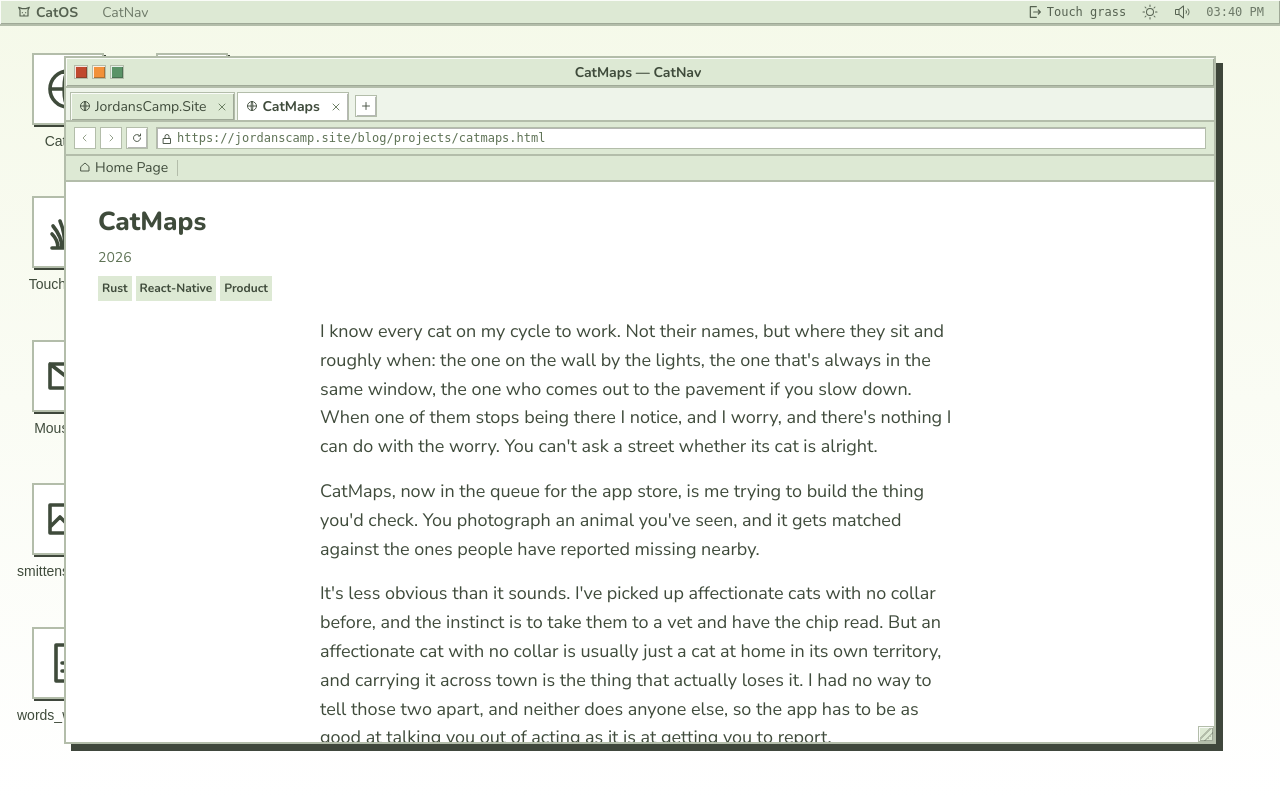
LaptopScreenOverlay (CatOS) › the browser window › closing the active tab hands focus to its neighbour
Step 1. Click the button named "Close CatMaps" → click(336, 106), box [328,98,344,114]
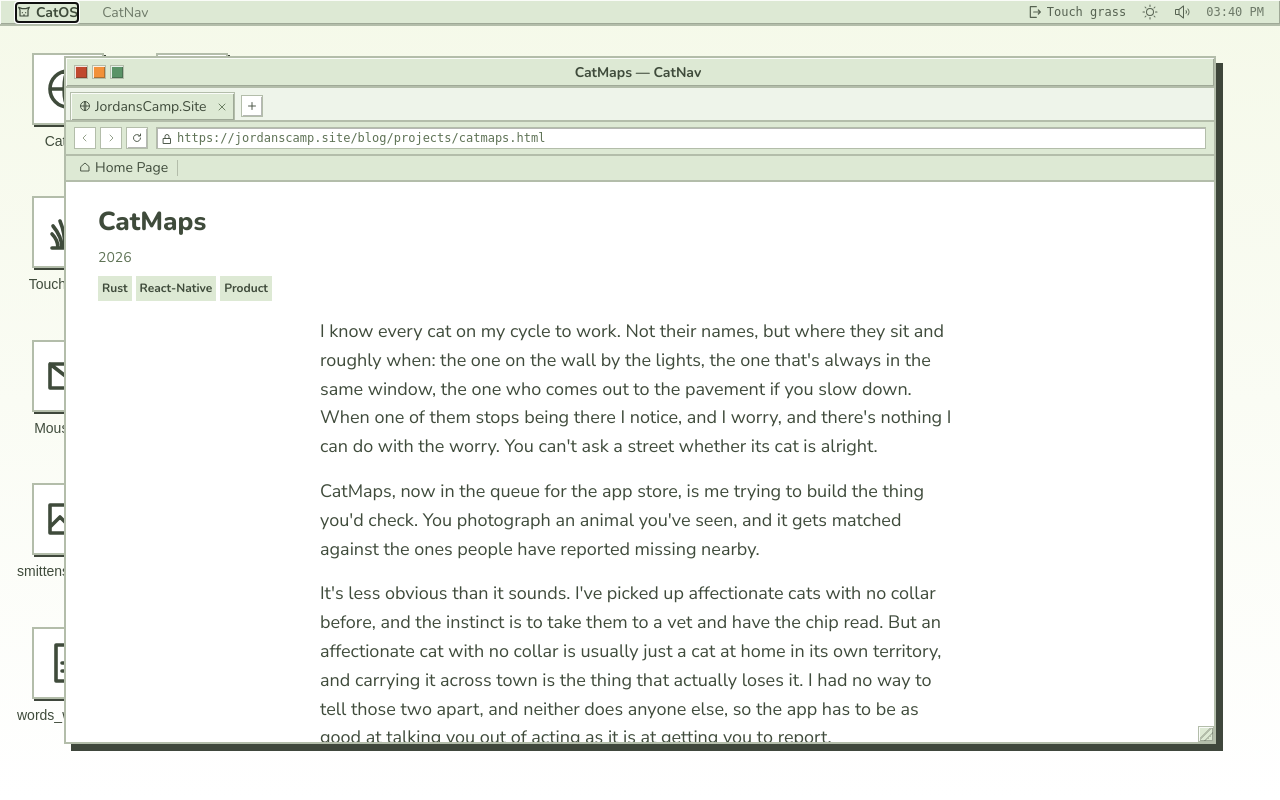
expect the text with test id "path" reads "/blog/projects/jordanscamp-site.html": met, box [0,0,263,22]
